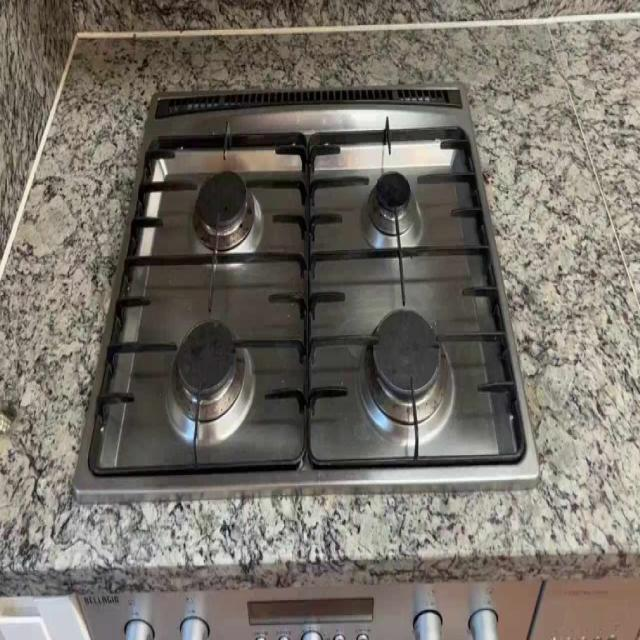knob_OFF: (310, 277, 528, 477), (99, 302, 316, 496), (294, 138, 497, 283), (131, 136, 326, 284)
